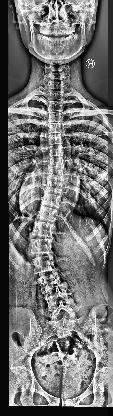Vertebrae: (24, 239, 61, 253), (34, 274, 67, 288), (29, 222, 61, 236), (30, 256, 61, 270), (44, 290, 74, 304), (31, 209, 63, 221), (37, 194, 65, 206), (41, 182, 68, 194), (46, 170, 70, 180), (44, 112, 68, 122), (46, 146, 68, 156), (45, 134, 67, 144), (44, 101, 66, 111), (45, 90, 67, 100), (48, 158, 68, 168), (47, 123, 65, 133)
